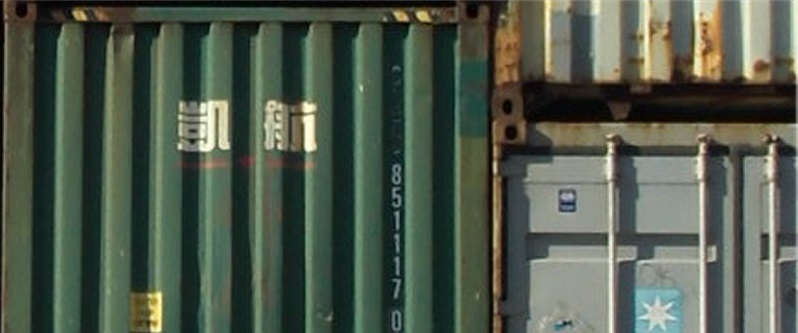container_door: (501, 122, 794, 330)
container_no_door: (1, 5, 488, 326)
